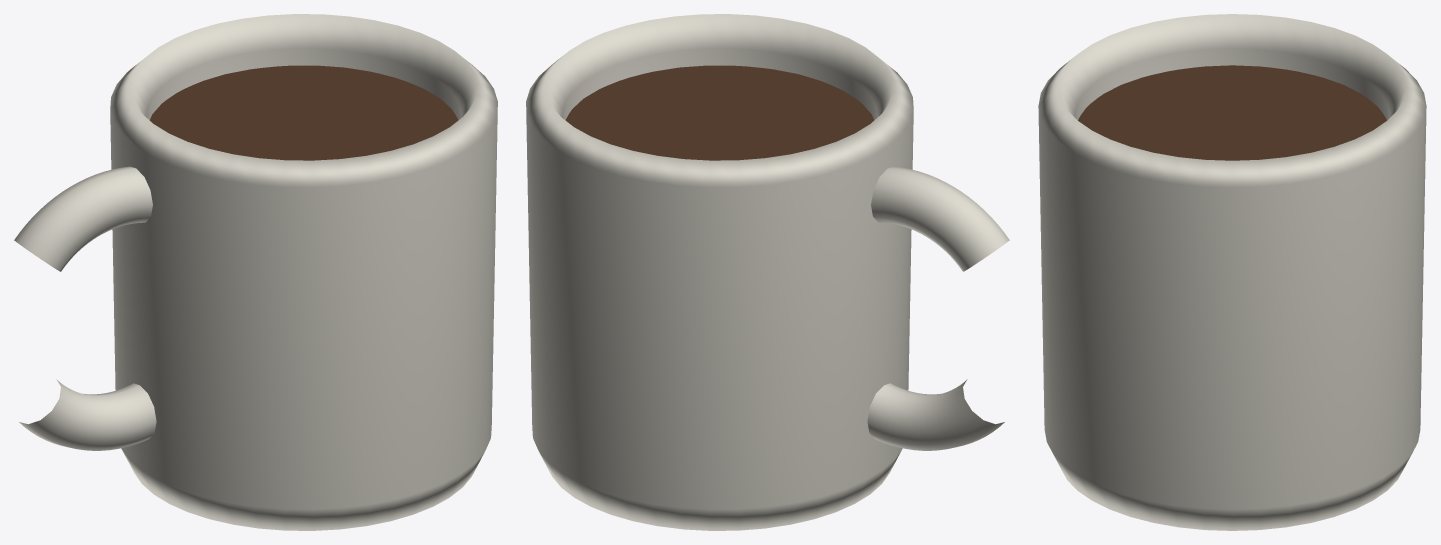
The model's file is coffee-mug.glb.
The picture shows the model from 3 angles, left to right: view 1: azimuth 30°, elevation 25°; view 2: azimuth 150°, elevation 25°; view 3: azimuth 270°, elevation 25°; orthographic projection.
Visible parts, largest first — view 1: coffee-mug; view 2: coffee-mug; view 3: coffee-mug.
Boxes of the visible parts, box(x1,y1,x2,y2) form: coffee-mug: box(14, 14, 497, 530); coffee-mug: box(526, 14, 1009, 530); coffee-mug: box(1038, 14, 1426, 530).
Size of the model in its own units: 0.2563 by 0.2 by 0.19.
